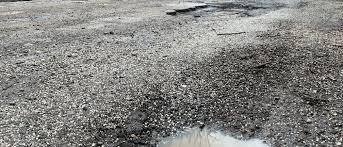pothole: (135, 115, 275, 147), (170, 1, 285, 30)
